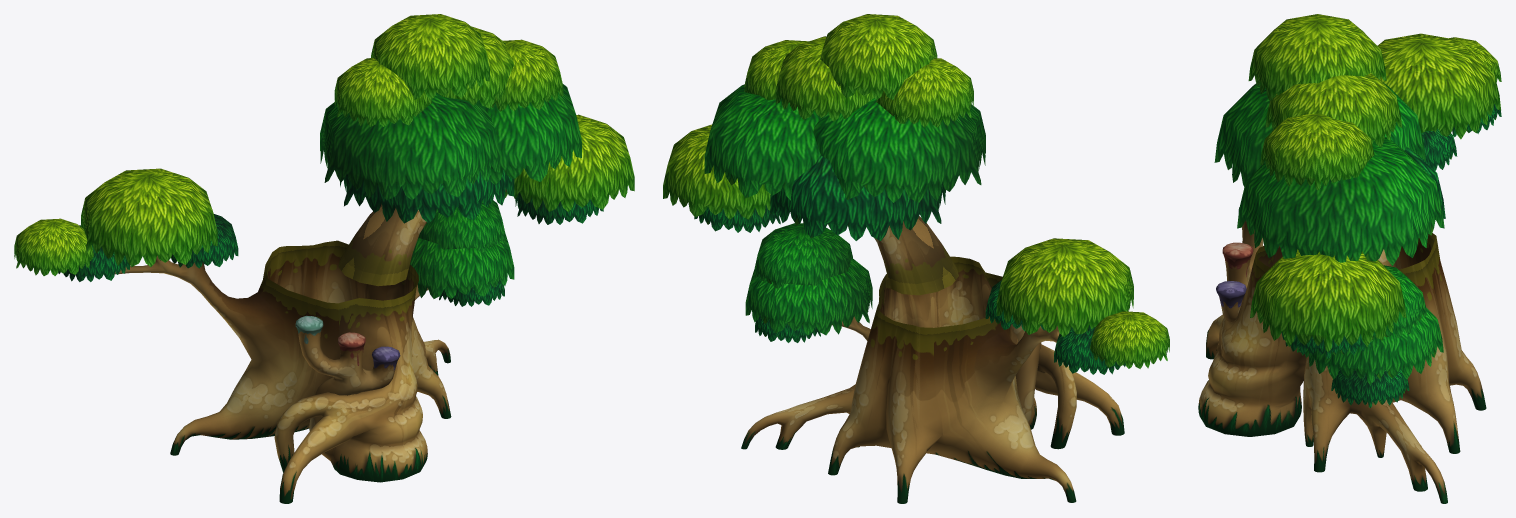
The model's file is tree10.obj.
3 renders of one model, left to right at view 1: azimuth 30°, elevation 25°; view 2: azimuth 150°, elevation 25°; view 3: azimuth 270°, elevation 25°, orthographic. The views are drawn at different scales.
Visible parts, largest first — view 1: Tree10_Object001; view 2: Tree10_Object001; view 3: Tree10_Object001.
Part boxes in pixels (x1=…): Tree10_Object001: x1=14, y1=14, x2=634, y2=503; Tree10_Object001: x1=663, y1=14, x2=1169, y2=503; Tree10_Object001: x1=1198, y1=14, x2=1501, y2=503.
Size of the model in its own units: 20.59 by 14.22 by 8.85.
Materials: 1 (1 with a texture image).
